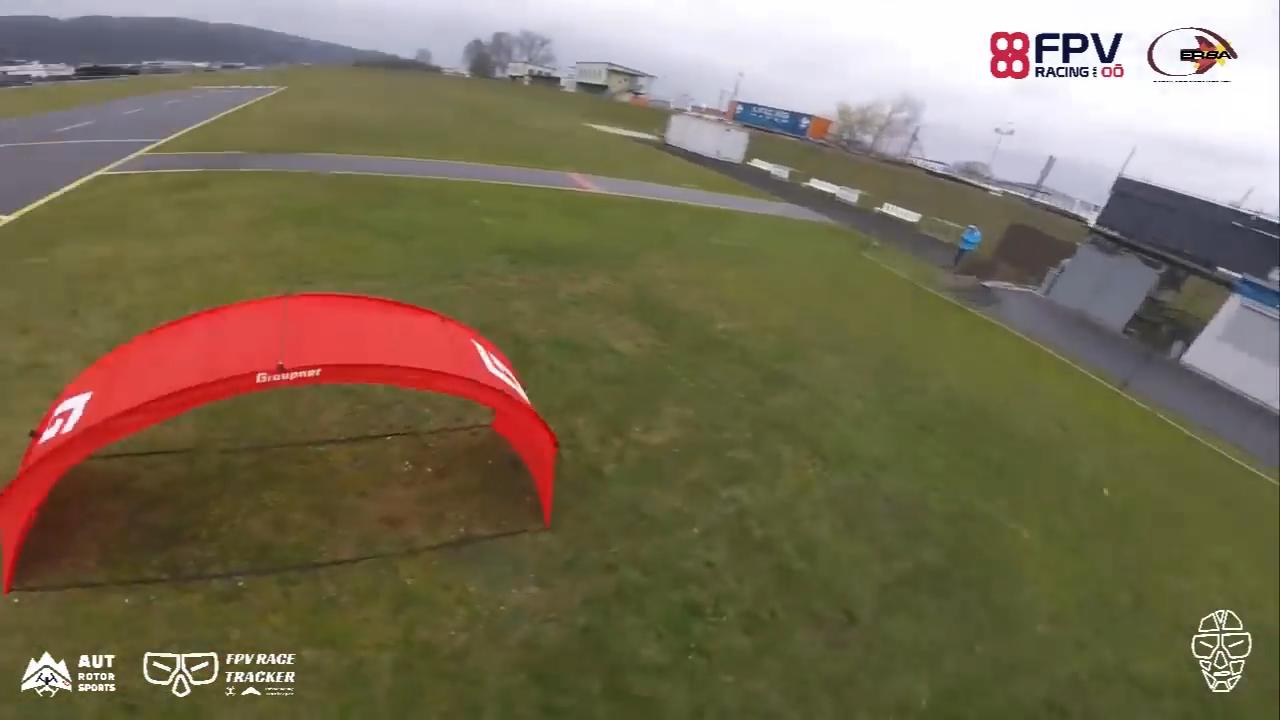gate: (3, 292, 566, 599)
